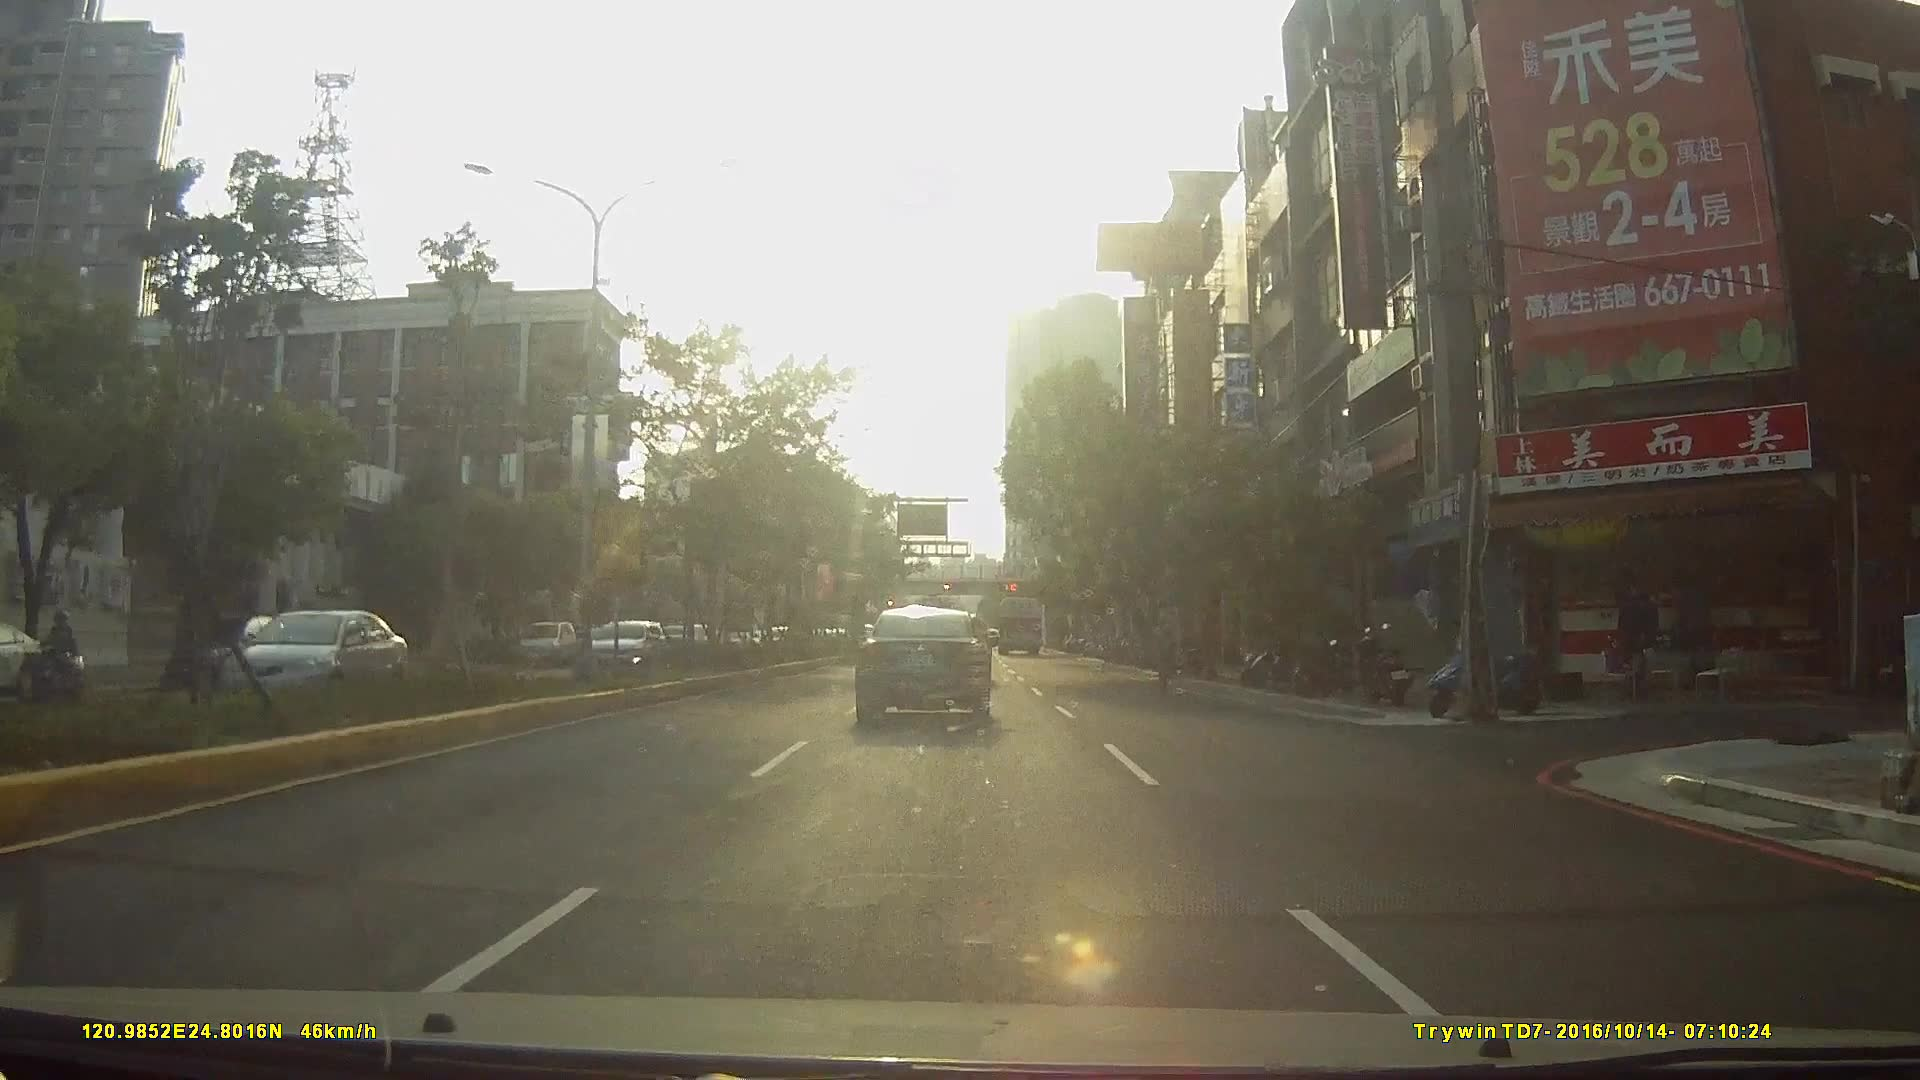pedestrian: (1150, 611, 1189, 699)
rider: (31, 609, 83, 709)
vehicle: (201, 601, 425, 733), (852, 603, 994, 727), (1, 602, 95, 745), (578, 615, 675, 681), (993, 593, 1043, 656), (513, 619, 575, 665)
